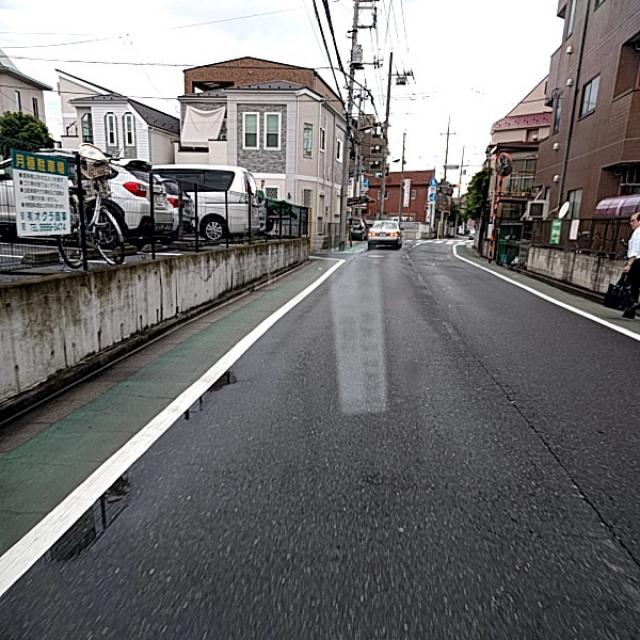pothole: (549, 442, 608, 518)
